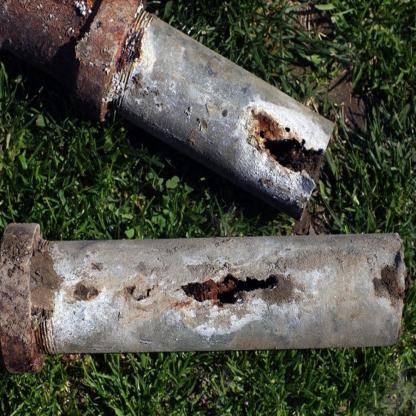burst: (145, 255, 292, 321), (248, 121, 341, 192)
